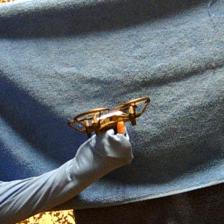drone: (68, 96, 152, 139)
